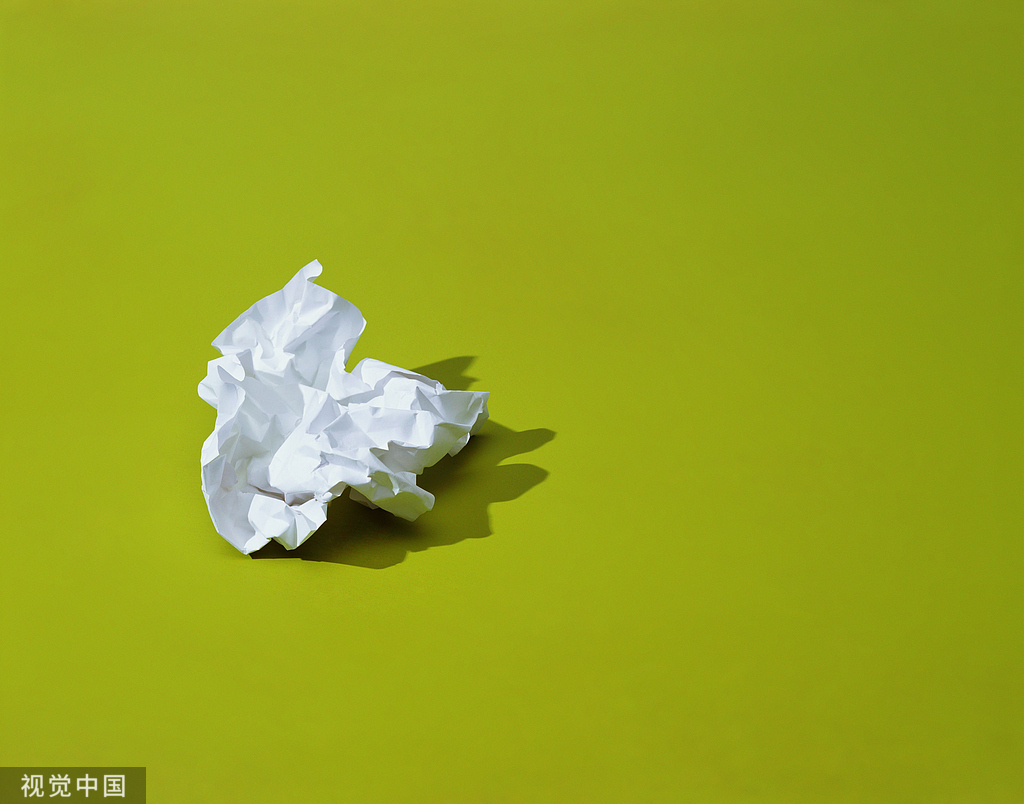Paper: (197, 262, 489, 554)
